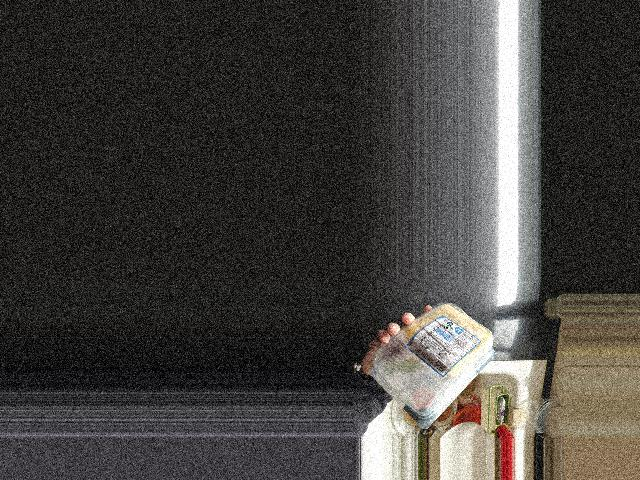cheese: (370, 310, 495, 410)
